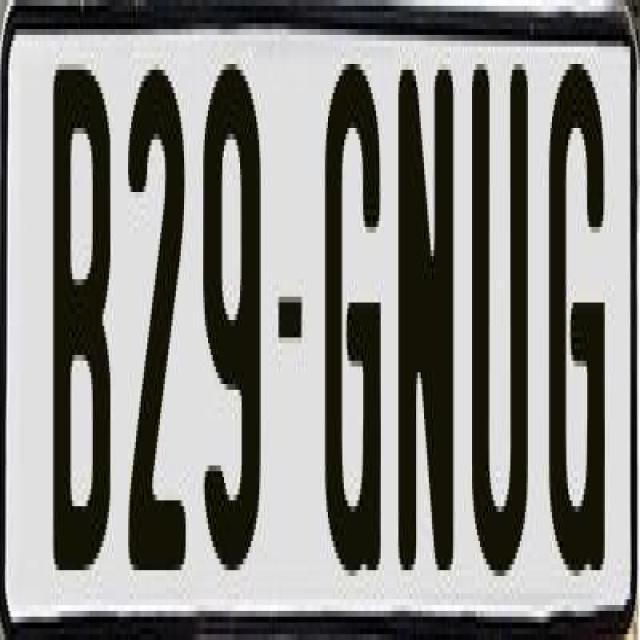2: (128, 58, 186, 576)
9: (203, 47, 267, 564)
B: (50, 64, 114, 588)
G: (548, 58, 610, 594), (323, 52, 386, 570)
N: (394, 58, 449, 582)
U: (467, 64, 530, 582)
